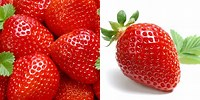Fresa: (117, 22, 182, 93), (51, 27, 101, 85), (6, 53, 60, 100), (1, 13, 55, 57), (42, 1, 101, 36)
